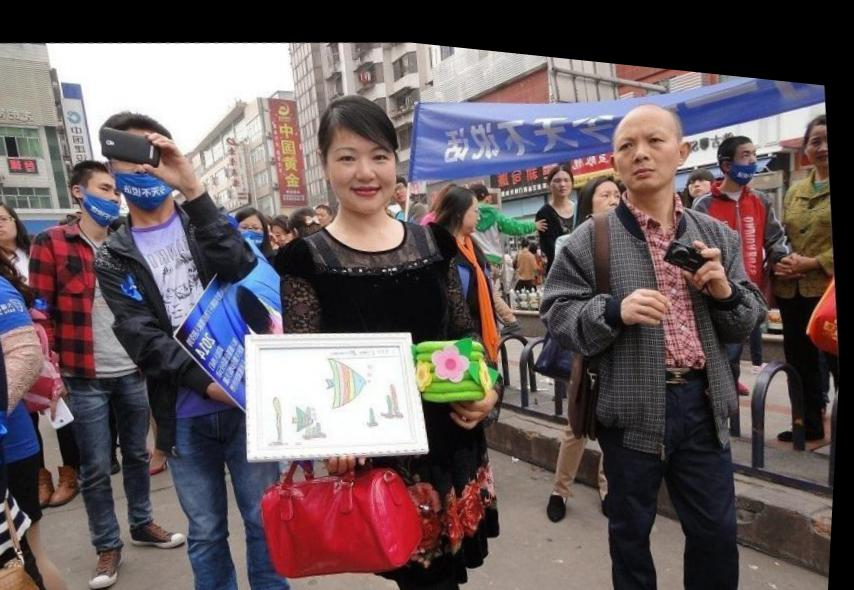NONE: (327, 128, 399, 206), (612, 108, 681, 184), (592, 171, 629, 214), (806, 111, 832, 152), (459, 191, 485, 227), (270, 218, 299, 248), (1, 209, 21, 249), (687, 160, 712, 183), (554, 162, 574, 184), (318, 202, 336, 224), (395, 173, 411, 194)
OK: (238, 210, 266, 245)
WRONG: (113, 125, 181, 211), (71, 168, 132, 232), (727, 129, 762, 171)
